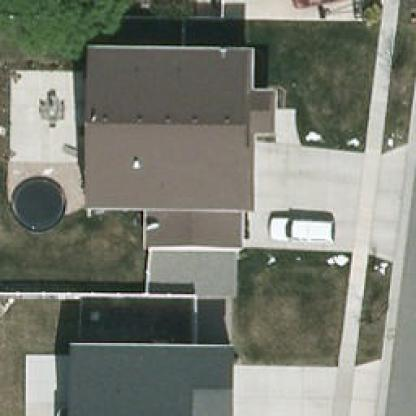car: (266, 218, 338, 245), (289, 0, 358, 8)
